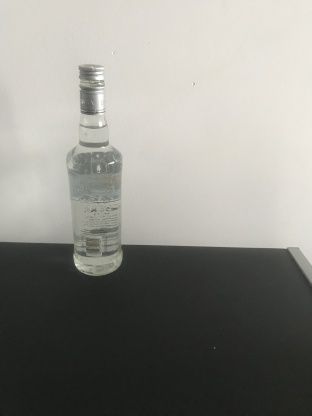nakretka: (77, 62, 107, 115)
